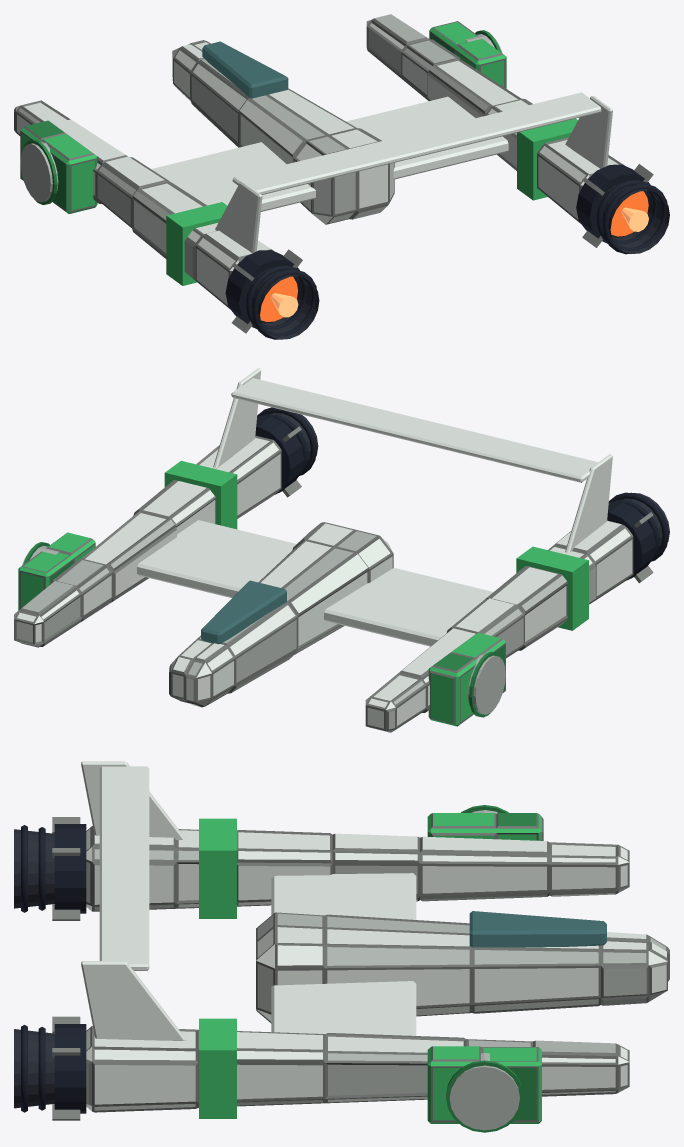
File: kestrel.glb
3 renders of one model, top to bottom at view 1: azimuth 30°, elevation 25°; view 2: azimuth 150°, elevation 25°; view 3: azimuth 270°, elevation 25°, orthographic. The views are drawn at different scales.
Parts seen in each view (by area): view 1: kestrel_mesh; view 2: kestrel_mesh; view 3: kestrel_mesh.
Boxes of the visible parts, left/top/right/bottom form: kestrel_mesh: left=14, top=14, right=669, bottom=339; kestrel_mesh: left=14, top=368, right=669, bottom=732; kestrel_mesh: left=14, top=761, right=669, bottom=1132.
Bounding box in the file's own units: 8.06 × 2.14 × 8.6.
